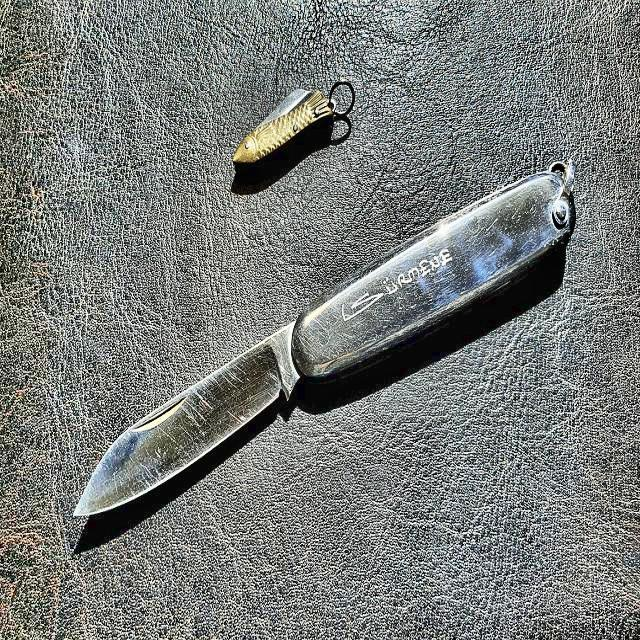knife: (68, 153, 580, 538)
